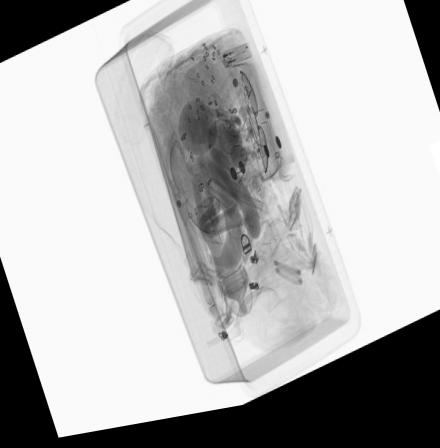Lighter: (217, 49, 253, 78)
